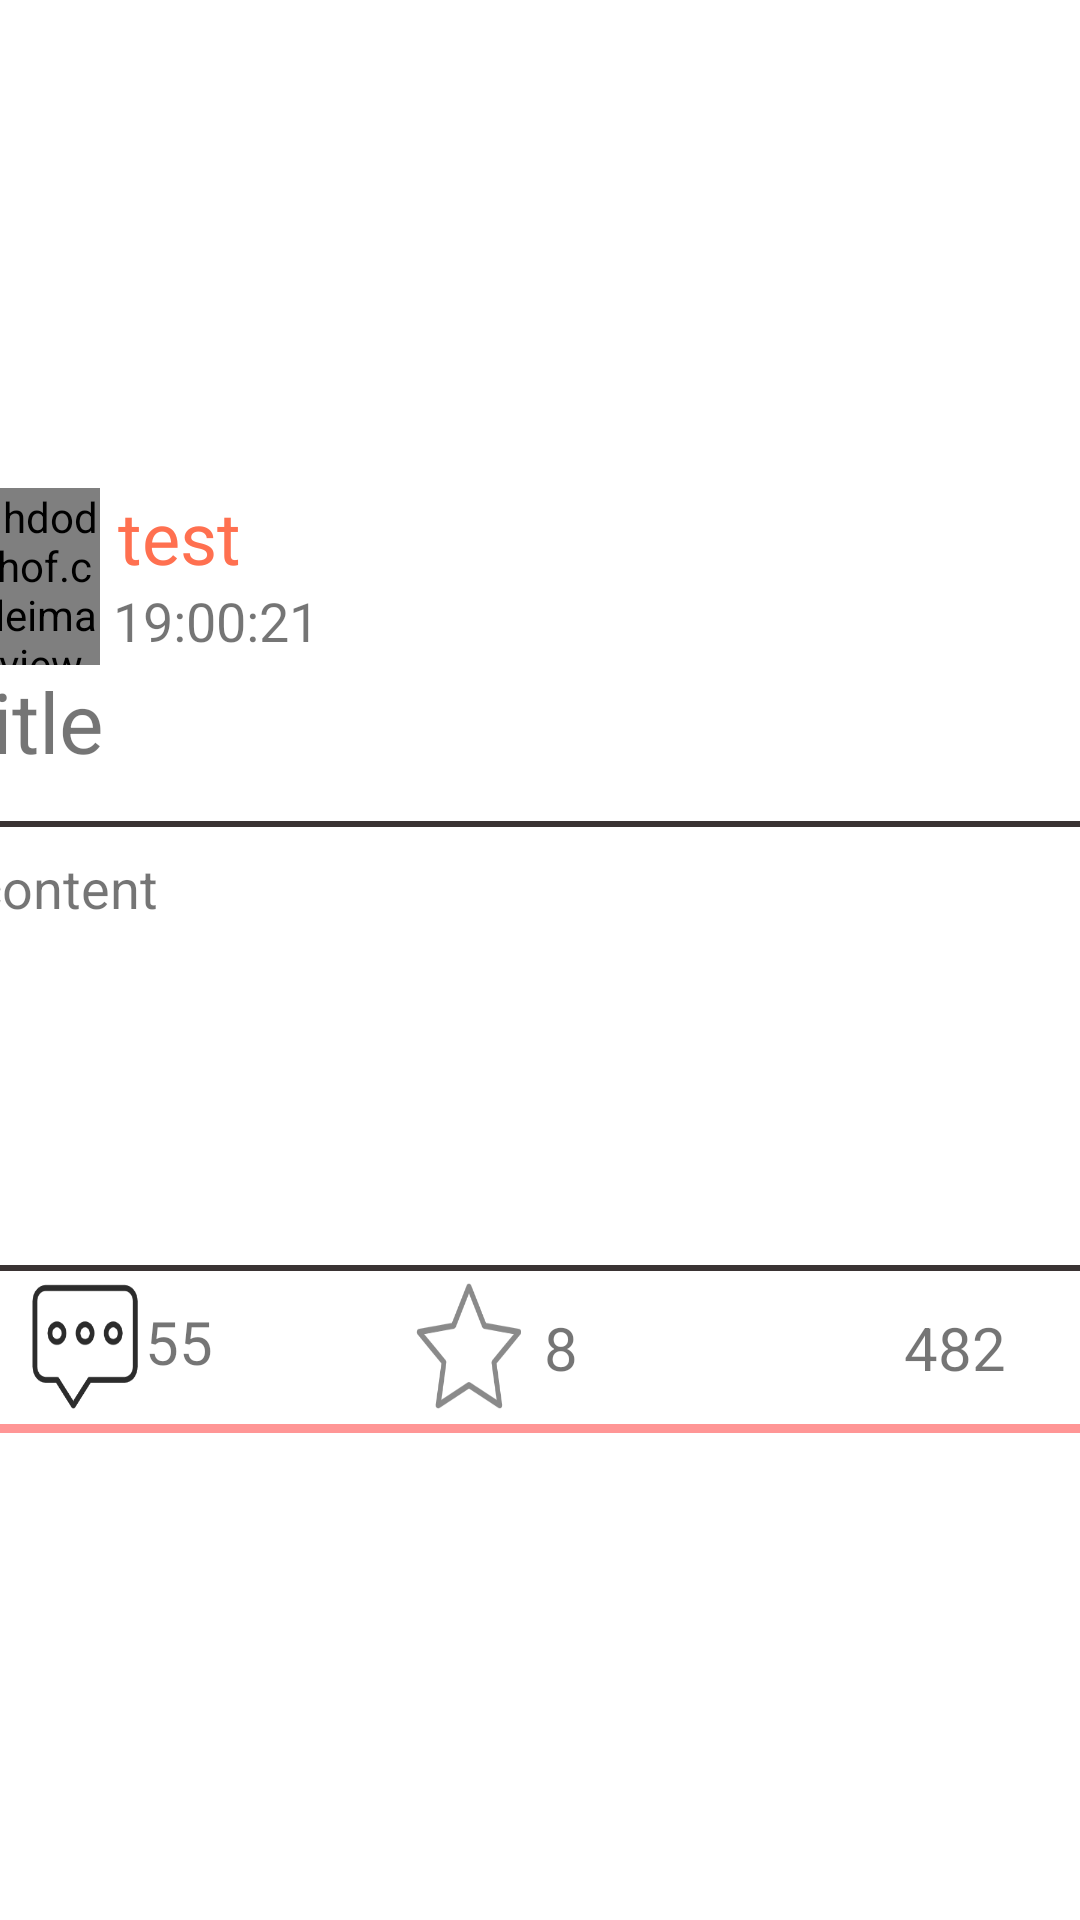

Screen size 1080w x 1920h. Icon name, then its box in pixels as (x1, y1, x2, y2):
comment: (32, 1284, 138, 1409)
mark: (417, 1284, 521, 1409)
